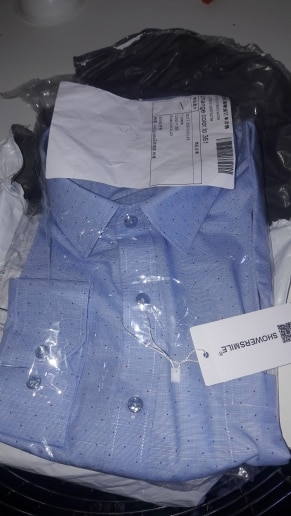shirts: (18, 147, 271, 470)
